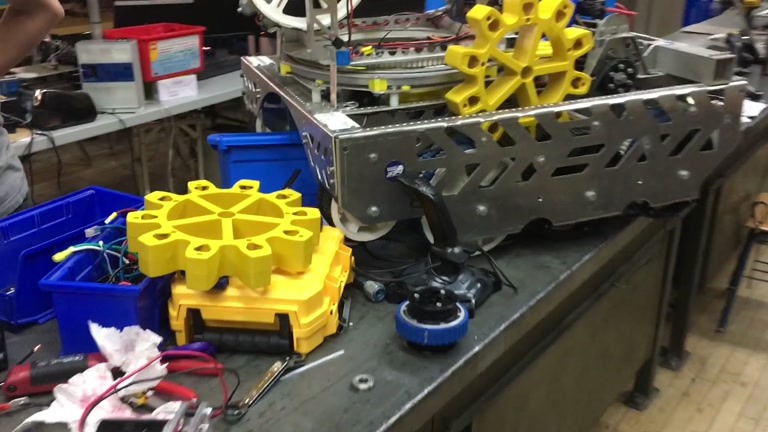gear: (444, 1, 594, 150), (126, 177, 320, 292)
